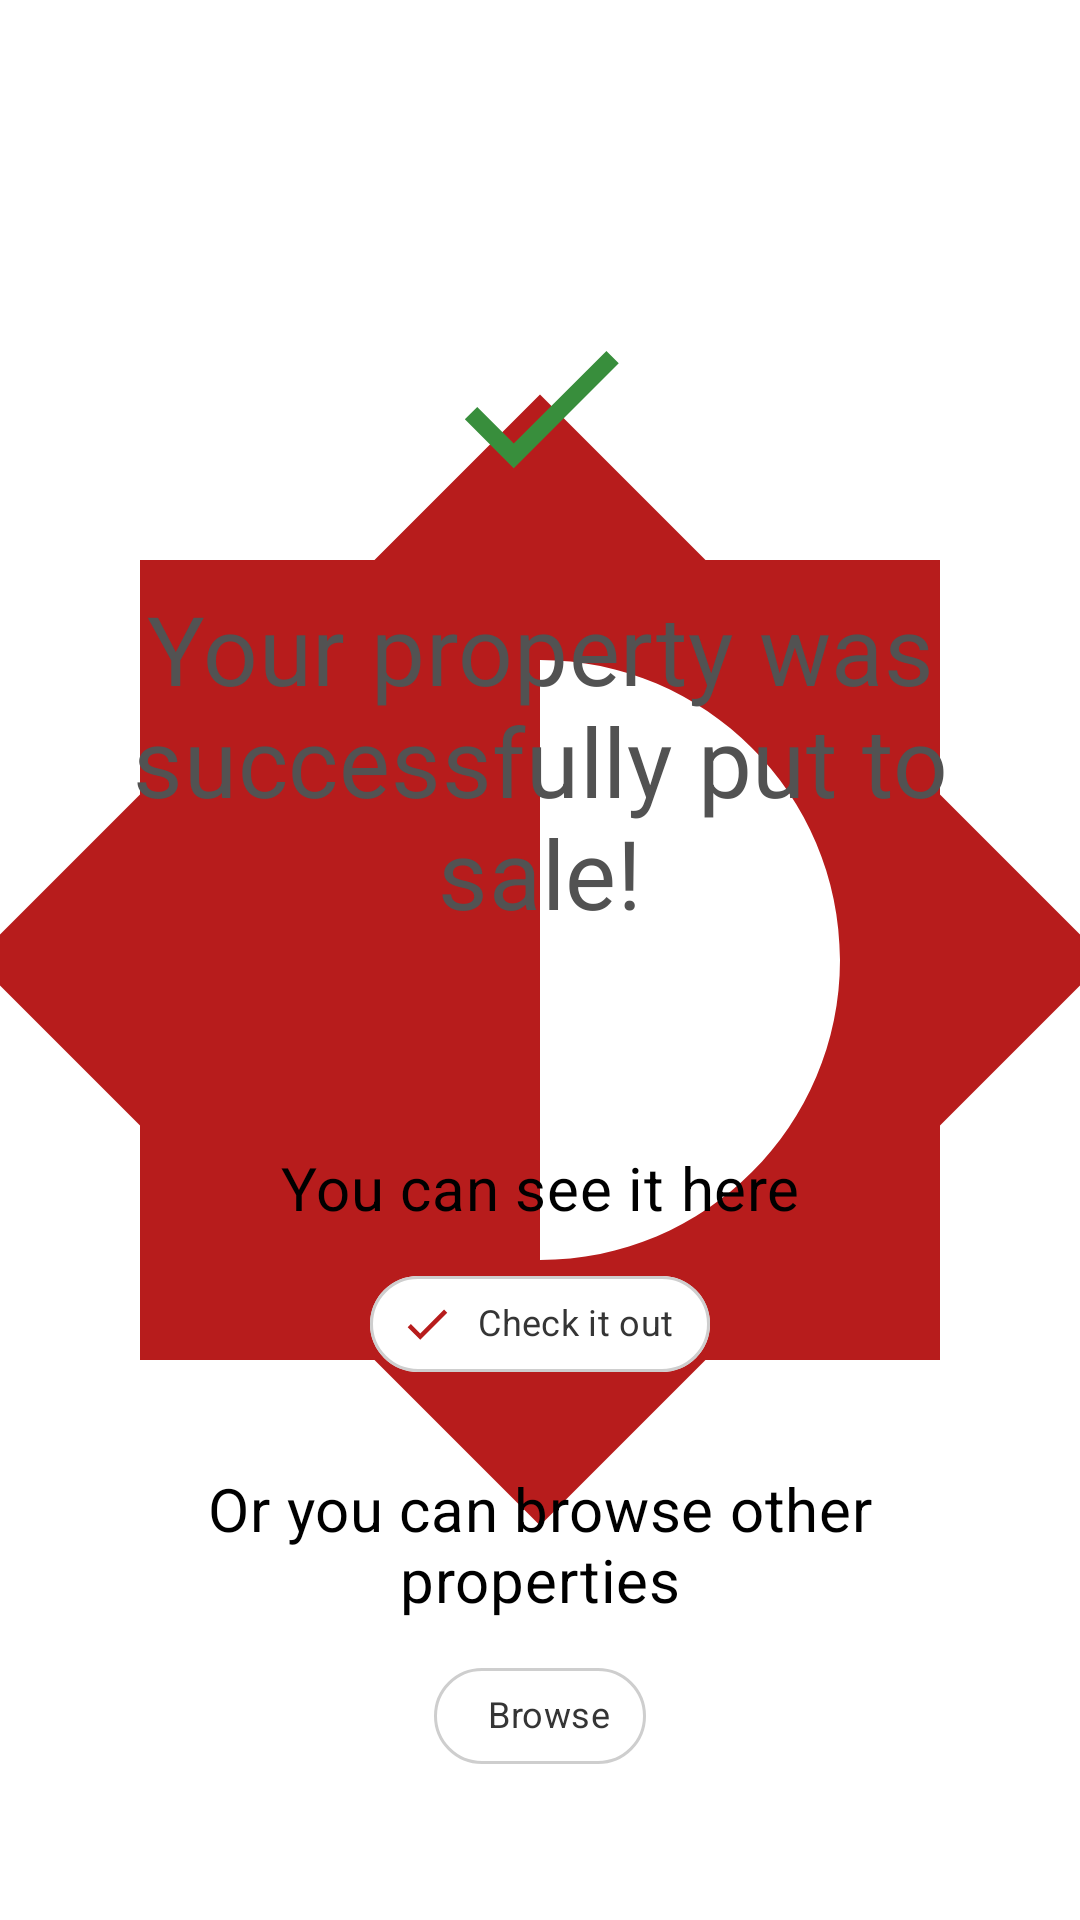

Where icons sit on this 1080 × 1920 app screen, as [x1=x1, y1=y1, x2=x2, y2=y2]:
check: [x1=435, y1=351, x2=645, y2=512]
